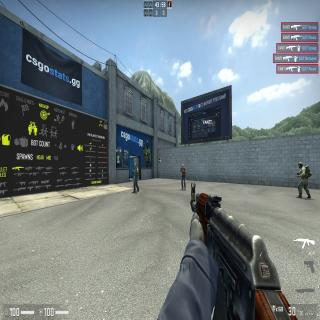CT-Body: (297, 162, 310, 199), (134, 162, 138, 194)
CT-Head: (298, 162, 303, 170), (134, 163, 137, 168)
T-Body: (180, 164, 187, 190)
T-Head: (182, 164, 184, 169)
